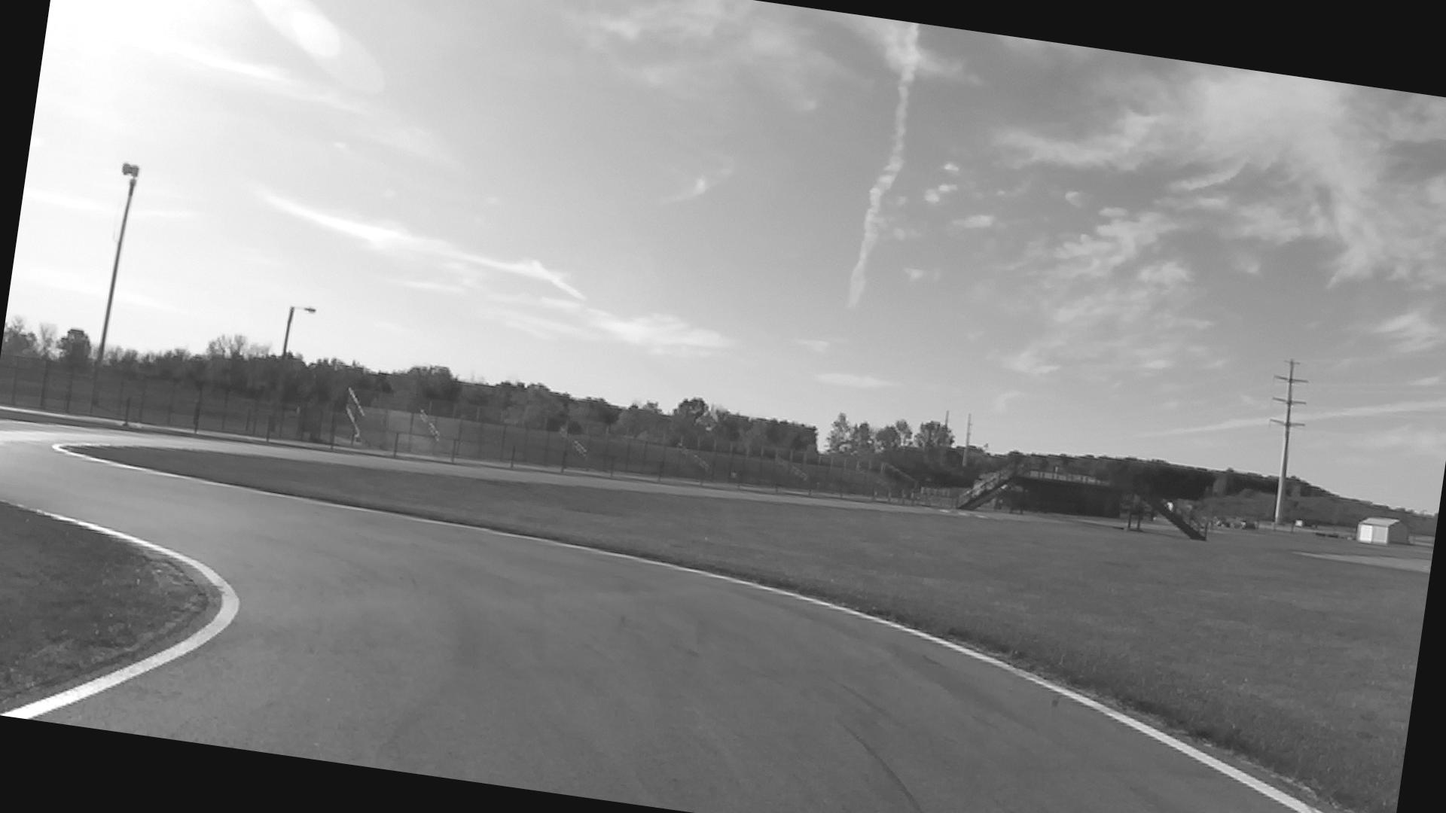white-line: (52, 443, 1329, 813), (0, 508, 240, 720)
